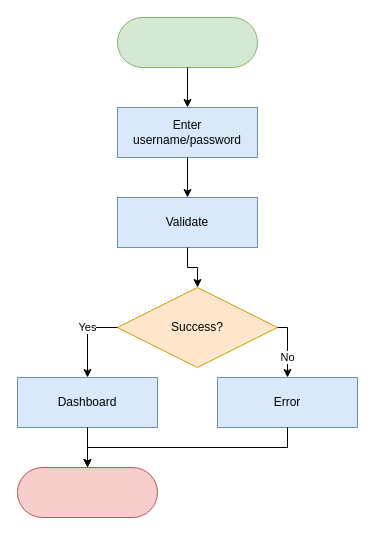
This 375x535 diagram has some shape labels left out. The centre of each missing label's shape, as x and y in pixels:
"Start" goes at (187,42).
"Stop" goes at (87,492).
